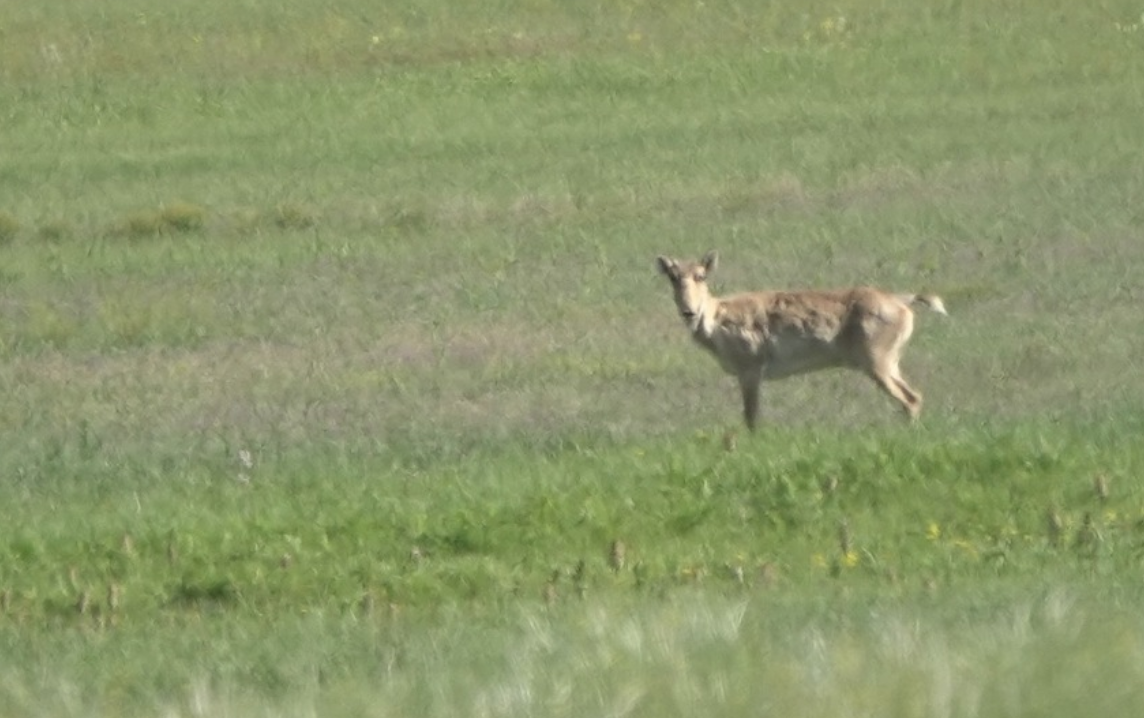saiga: (649, 235, 970, 435)
